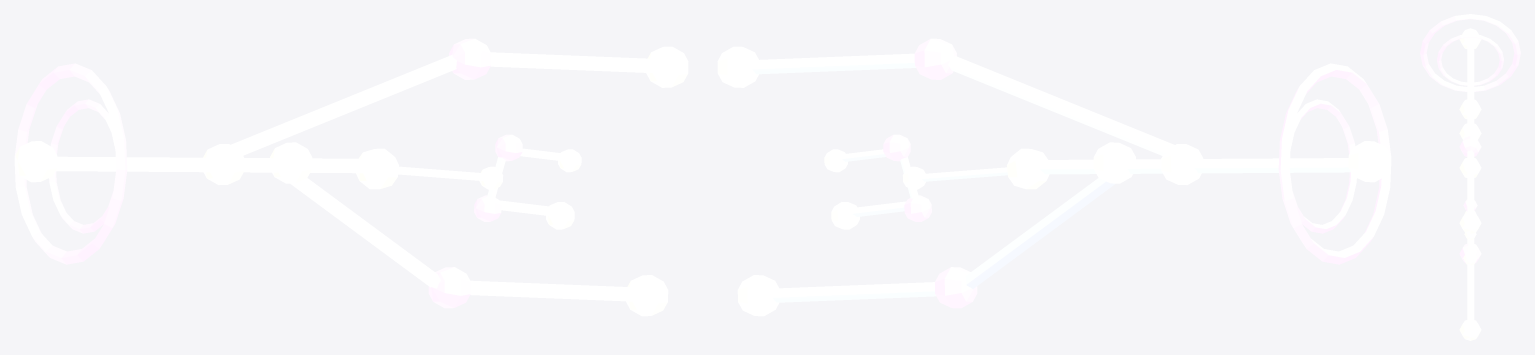
File: neuron6.glb
3 views of the same model, side by side, from view 1: azimuth 30°, elevation 25°; view 2: azimuth 150°, elevation 25°; view 3: azimuth 270°, elevation 25° (orthographic). The views are drawn at different scales.
Parts seen in each view (by area): view 1: n6; view 2: n6; view 3: n6.
Boxes of the visible parts, x1,y1,x2,y2 form: n6: (14, 38, 688, 316); n6: (717, 38, 1391, 316); n6: (1420, 14, 1520, 340).
Size of what is drawn, in the model's own units: 5.89 by 3.2 by 1.54.
Materials: 1 (1 with a texture image).
